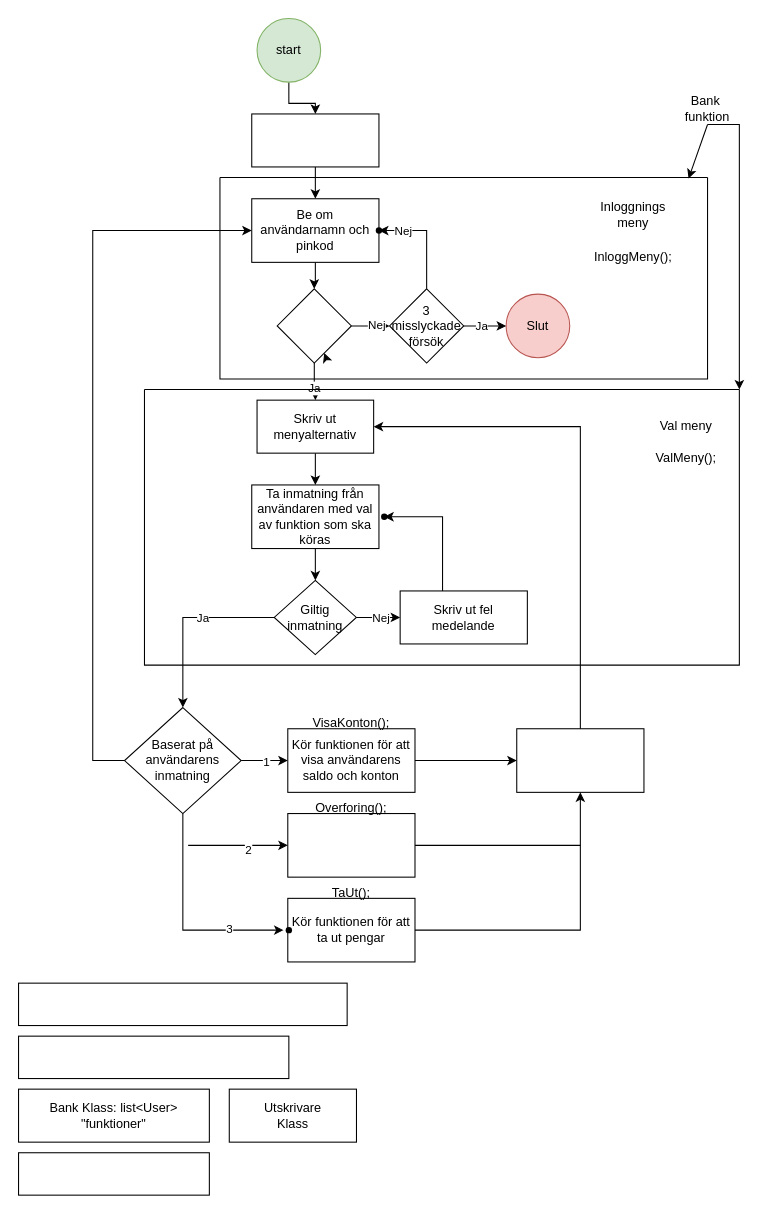
Image size: 766x1214. Some labels were removed from this diagram. The shapes that lost their labels are listed below. From the top down, each one's centre as x and y in pixels, then its label:
the point at 315,140: Välkomstmeddeland
the point at 313,325: Rätt inlogg?
the point at 580,760: invänta knapp tryck på enter
the point at 351,844: Kör funktionen för överföring mellan konton
the point at 182,1004: User Klass: string namn, int kod, list<konton>
the point at 153,1057: Konto Klass: string namn, int saldo
the point at 113,1173: Fel Klass: "funktioner"
